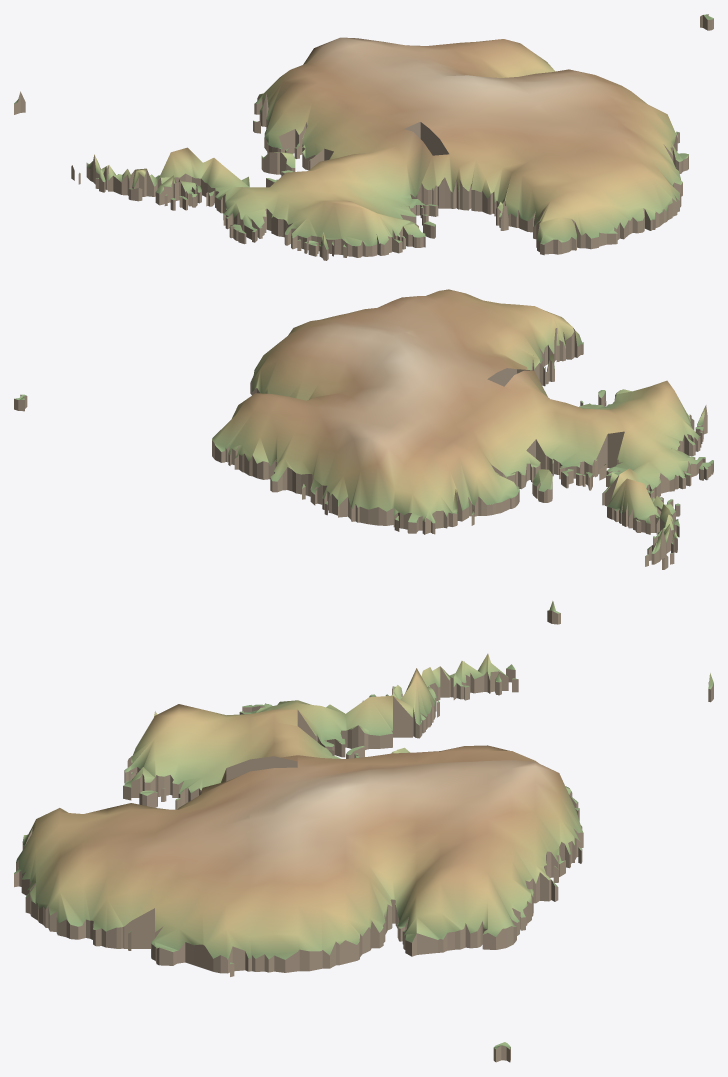
File: antartida-terrain.glb
The picture shows the model from 3 angles, top to bottom: view 1: azimuth 30°, elevation 25°; view 2: azimuth 150°, elevation 25°; view 3: azimuth 270°, elevation 25°; orthographic projection. The views are drawn at different scales.
Visible parts, largest first — view 1: antartida: norte em -Z, leste em +X, elevação em +Y; view 2: antartida: norte em -Z, leste em +X, elevação em +Y; view 3: antartida: norte em -Z, leste em +X, elevação em +Y.
Boxes of the visible parts, x1,y1,x2,y2 form: antartida: norte em -Z, leste em +X, elevação em +Y: [14, 14, 713, 260]; antartida: norte em -Z, leste em +X, elevação em +Y: [14, 289, 713, 624]; antartida: norte em -Z, leste em +X, elevação em +Y: [14, 653, 713, 1062].
Bounding box in the file's own units: 1.58 × 0.1739 × 1.22.
